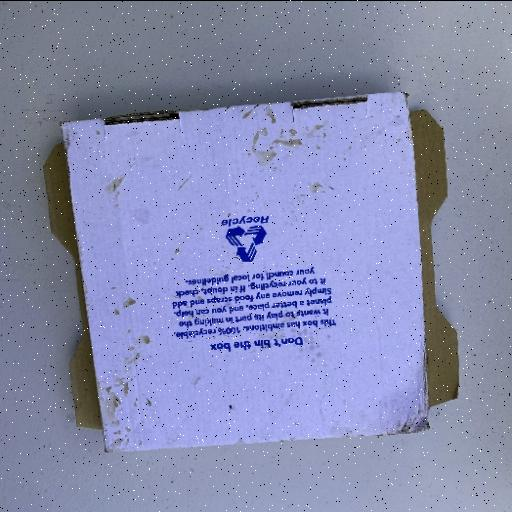Cardboard: (56, 88, 444, 452)
